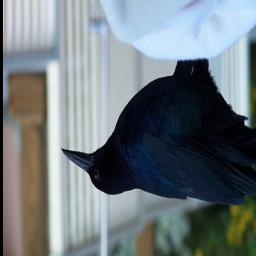Crow: (60, 60, 256, 207)
